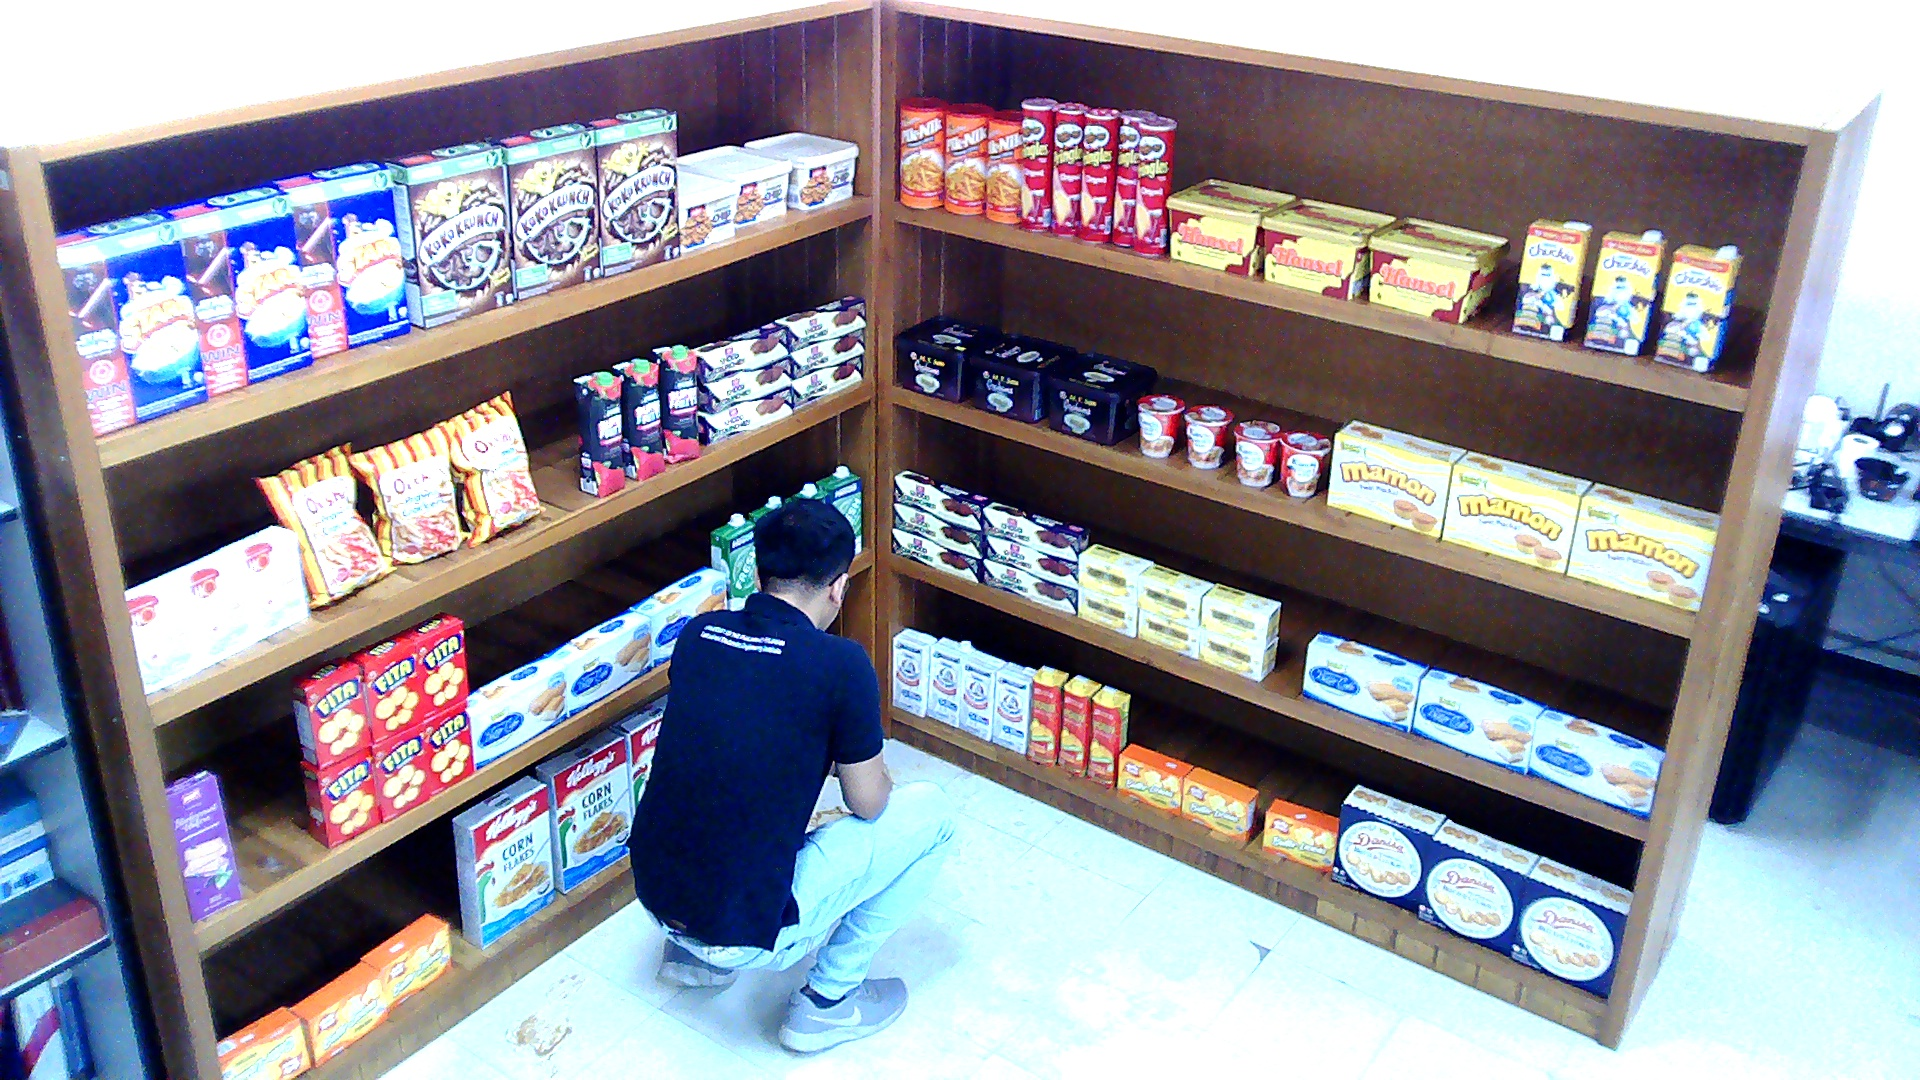Bear brand: (990, 660, 1038, 754), (957, 648, 1005, 740), (927, 635, 975, 727), (890, 625, 935, 715)
Buttercake: (1527, 706, 1665, 819), (1410, 666, 1548, 774), (1302, 630, 1428, 731), (543, 610, 651, 718), (467, 654, 566, 769), (627, 564, 726, 667)
Butterlicious: (288, 963, 390, 1066), (360, 911, 453, 1008), (216, 1006, 309, 1080), (1263, 797, 1338, 873), (1181, 765, 1256, 839), (1115, 742, 1190, 814)
Camomille: (1200, 582, 1281, 643), (1137, 562, 1212, 627), (1077, 542, 1152, 603), (1200, 626, 1278, 682), (1137, 605, 1200, 659), (1077, 583, 1137, 637)
Choco Crunchies: (981, 499, 1089, 558), (698, 380, 791, 445), (891, 467, 990, 528), (692, 319, 785, 382), (696, 355, 789, 414), (981, 558, 1077, 614), (774, 292, 864, 351), (891, 502, 981, 558), (891, 527, 981, 583), (981, 531, 1077, 583), (792, 353, 861, 409), (789, 328, 864, 377)
Chocolate Chips: (678, 143, 792, 224), (741, 130, 861, 209), (677, 170, 740, 251)
Chuckie: (1653, 241, 1743, 371), (1581, 229, 1665, 355), (1512, 216, 1593, 342)
Danisa: (1509, 855, 1632, 999), (1413, 816, 1539, 956), (1328, 783, 1445, 911)
Fita: (288, 656, 372, 769), (345, 632, 423, 742), (300, 747, 378, 848), (398, 612, 467, 718), (369, 720, 429, 821), (423, 697, 474, 796)
Fresh Milk: (708, 512, 756, 609), (813, 466, 861, 556)
Grahams: (1047, 348, 1158, 445), (969, 333, 1077, 423), (894, 315, 1002, 403)
Hansel: (1368, 214, 1509, 324), (1260, 196, 1398, 299), (1164, 177, 1296, 276)
Head: (747, 488, 858, 636)
Honey Stars: (153, 180, 312, 396), (54, 211, 207, 436), (273, 158, 408, 360)
Kellogg Corn Flakes: (450, 774, 555, 950), (534, 726, 630, 895)
Kimchi Noodles: (1278, 427, 1332, 495), (1233, 418, 1281, 488), (1181, 402, 1232, 467), (1137, 391, 1185, 456)
Koko Krunch: (384, 141, 513, 328), (480, 121, 597, 299), (579, 105, 681, 276)
Locally Mango: (1086, 684, 1131, 787), (1056, 675, 1101, 776), (1026, 663, 1068, 764)
Mamon: (1566, 482, 1719, 610), (1440, 450, 1593, 574), (1326, 418, 1464, 537)
Oishi Prawn: (249, 440, 396, 607), (347, 413, 470, 564), (450, 389, 546, 549)
Pik-nik: (941, 100, 992, 213), (897, 97, 948, 207), (984, 107, 1020, 222)
Pringles: (1134, 114, 1176, 254), (1113, 108, 1155, 245), (1079, 108, 1118, 243), (1049, 101, 1088, 234), (1020, 96, 1056, 231)
Super Fruits: (611, 358, 662, 482), (573, 369, 624, 497), (651, 342, 699, 464)
Wafer: (162, 769, 240, 922)
iHop: (222, 524, 306, 643), (171, 547, 249, 669), (123, 569, 198, 693)
